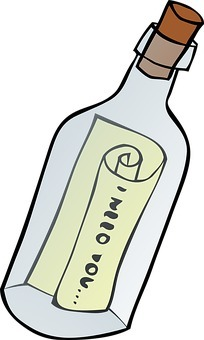bottle: (2, 21, 204, 336)
